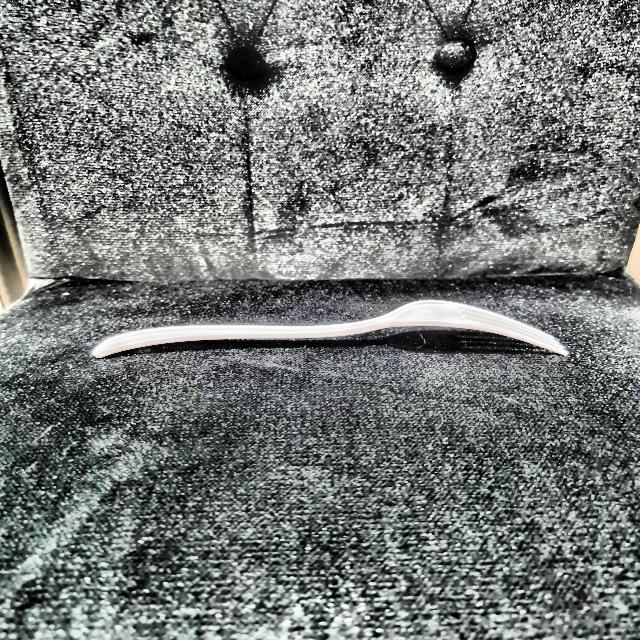plastic utensil: (96, 296, 572, 362)
